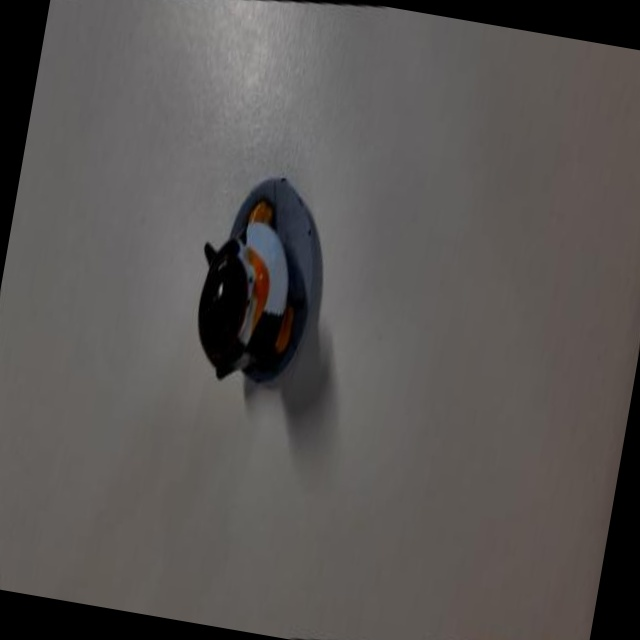Penguin: (169, 129, 354, 425)
